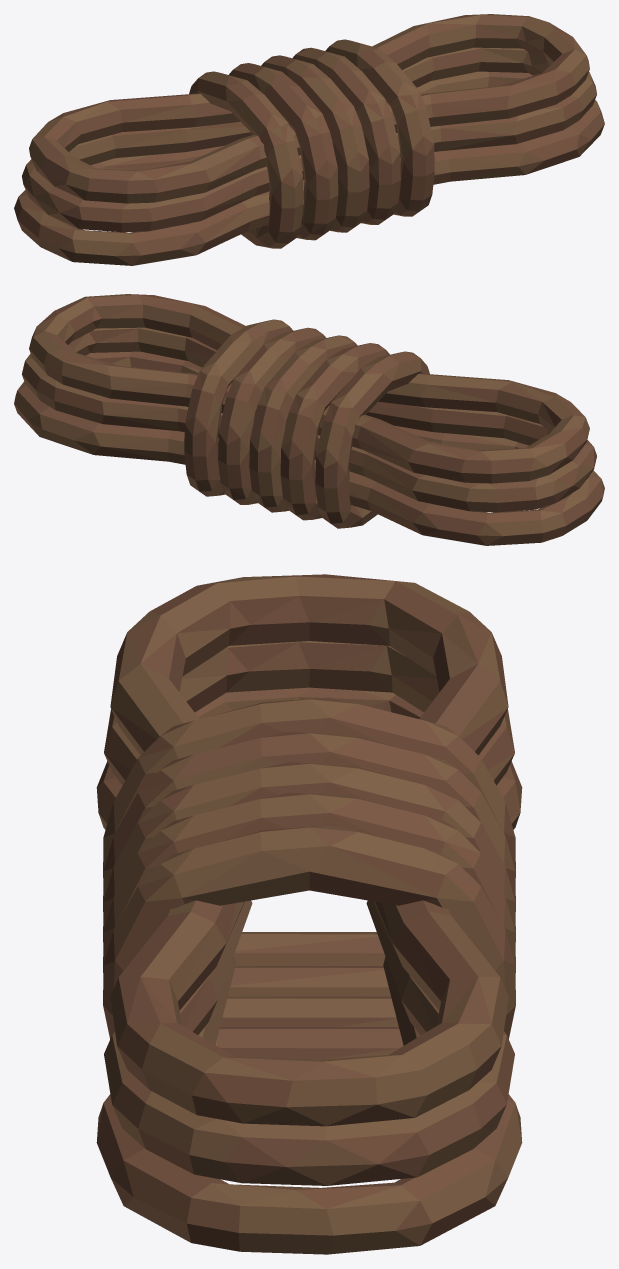
File: mesh_rope.fbx
The picture shows the model from 3 angles, top to bottom: view 1: azimuth 30°, elevation 25°; view 2: azimuth 150°, elevation 25°; view 3: azimuth 270°, elevation 25°; orthographic projection. The views are drawn at different scales.
Visible parts, largest first — view 1: mesh_rope; view 2: mesh_rope; view 3: mesh_rope.
Part boxes in pixels (x1,y1,x2,y2): mesh_rope: (14,14,604,265); mesh_rope: (14,294,604,545); mesh_rope: (96,574,522,1254).
Bounding box in the file's own units: 0.4967 × 0.1265 × 0.1651.
